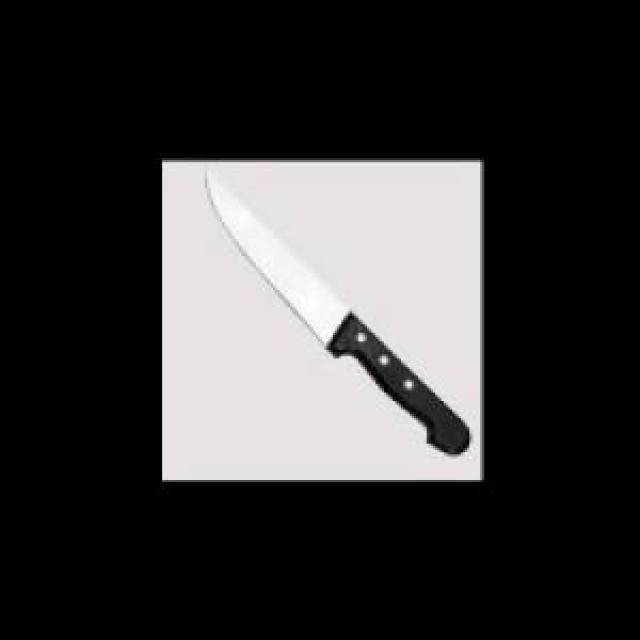knife: (196, 162, 474, 463)
